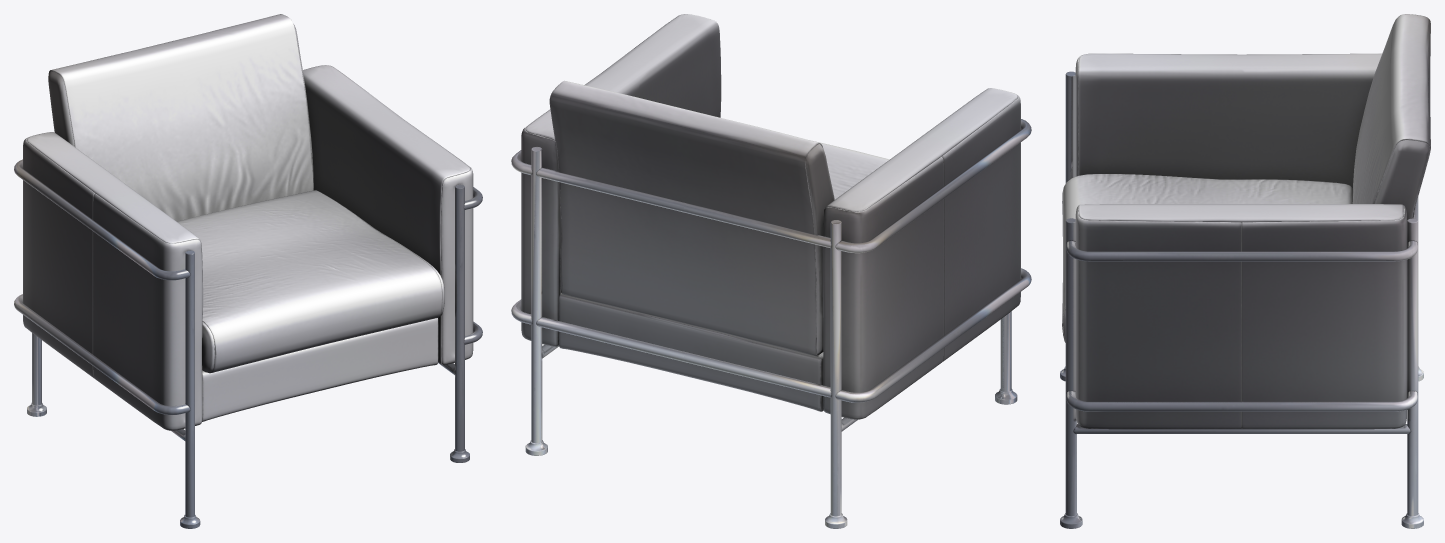
The model's file is solana_i_white_chrome_plated.glb.
The picture shows the model from 3 angles, left to right: view 1: azimuth 30°, elevation 25°; view 2: azimuth 150°, elevation 25°; view 3: azimuth 270°, elevation 25°; orthographic projection. The views are drawn at different scales.
Visible parts, largest first — view 1: solana_i-white; view 2: solana_i-white; view 3: solana_i-white.
Part boxes in pixels (x1,y1,x2,y2): solana_i-white: (14,14,482,528); solana_i-white: (511,14,1031,528); solana_i-white: (1060,14,1430,528).
Size of the model in its own units: 0.7738 by 0.7594 by 0.6815.
1 material, 1 textured.
